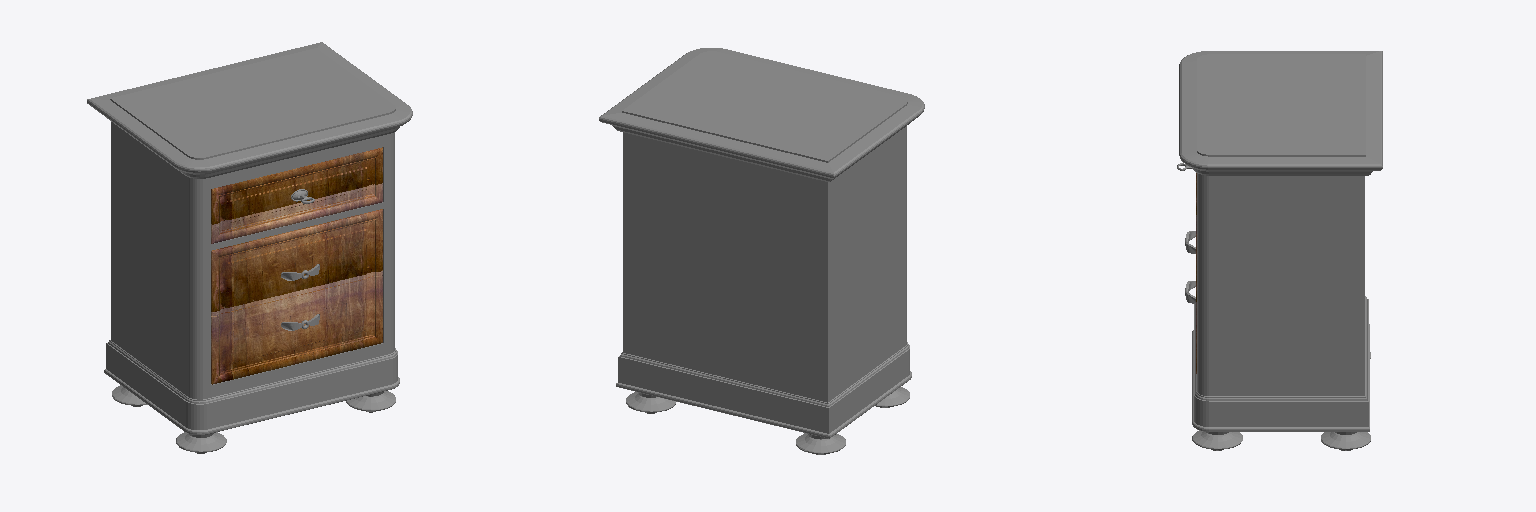
3 renders of one model, left to right at view 1: azimuth 30°, elevation 25°; view 2: azimuth 150°, elevation 25°; view 3: azimuth 270°, elevation 25°, orthographic.
Visible parts, largest first — view 1: Cylinder003, Box014, Box015, Line009; view 2: Cylinder003; view 3: Cylinder003.
Boxes of the visible parts, x1,y1,x2,y2 form: Cylinder003: [87, 42, 412, 453]; Box014: [211, 209, 382, 384]; Box015: [211, 147, 382, 243]; Line009: [281, 189, 319, 330]; Cylinder003: [599, 48, 924, 454]; Cylinder003: [1179, 51, 1382, 450].
Size of the model in its own units: 0.6248 by 0.7663 by 0.4726.
2 materials, 1 textured.